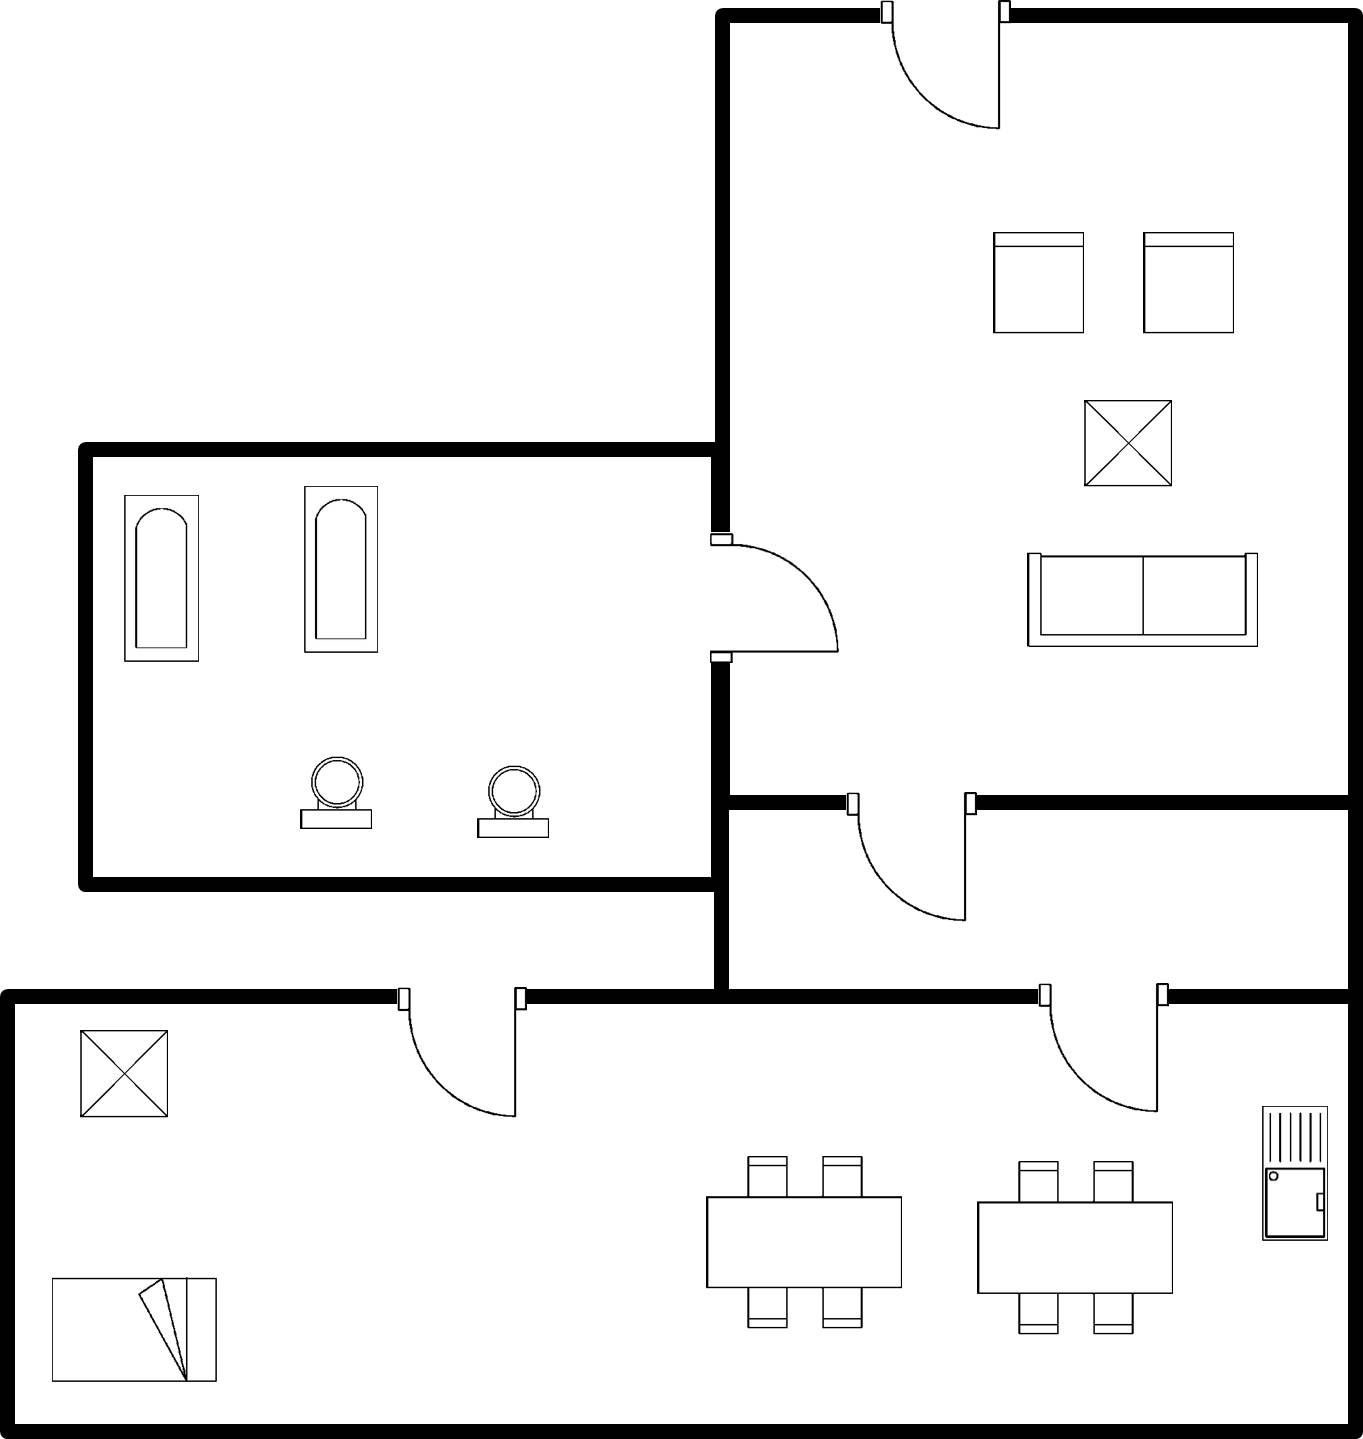bed: (41, 1267, 230, 1393)
coffee_table: (1065, 384, 1185, 500), (68, 1019, 180, 1130)
dining_table: (693, 1140, 913, 1341), (961, 1151, 1187, 1344)
large_sink: (289, 747, 387, 841), (469, 751, 556, 847)
large_sofa: (1014, 541, 1269, 661)
sink: (1247, 1095, 1340, 1255)
small_sofa: (1130, 224, 1247, 346), (982, 222, 1093, 344)
tub: (111, 486, 210, 674), (293, 478, 386, 665)
